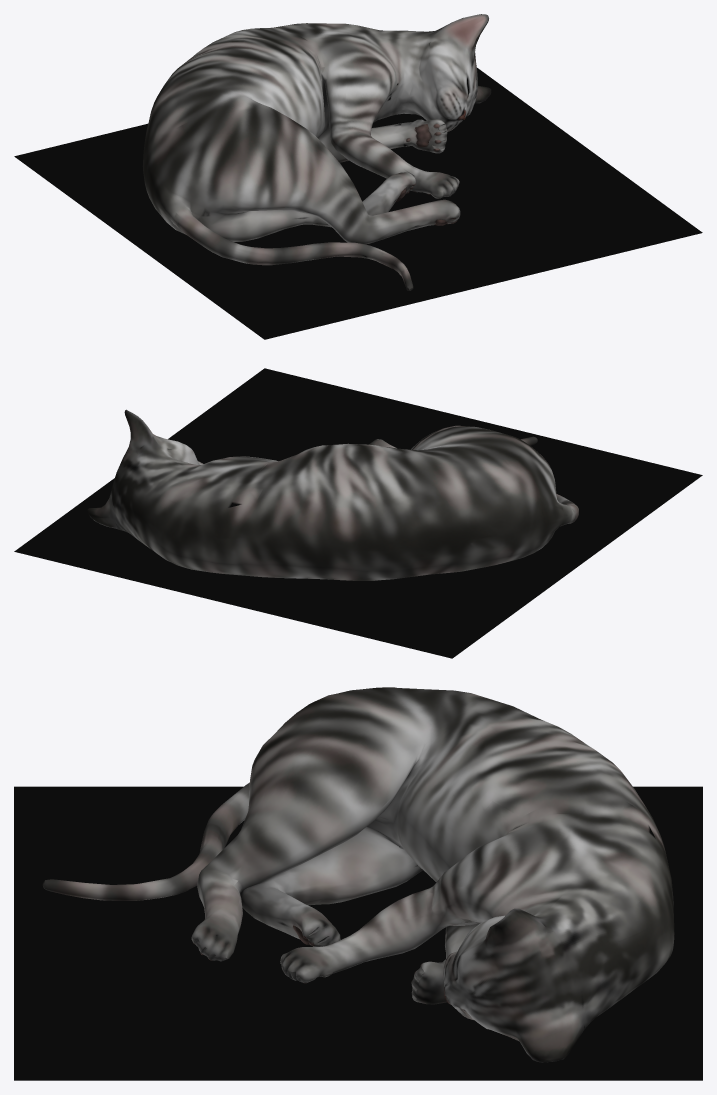
File: Others_57bed6b0-234a-5046-9ac2-9bb8dff5a699.glb
The picture shows the model from 3 angles, top to bottom: view 1: azimuth 30°, elevation 25°; view 2: azimuth 150°, elevation 25°; view 3: azimuth 270°, elevation 25°; orthographic projection. The views are drawn at different scales.
Parts seen in each view (by area): view 1: raw_model.obj; view 2: raw_model.obj; view 3: raw_model.obj.
Boxes of the visible parts, box(x1,y1,x2,y2) form: raw_model.obj: box(14, 14, 702, 339); raw_model.obj: box(14, 368, 702, 658); raw_model.obj: box(14, 687, 702, 1080).
Size of the model in its own units: 0.5485 by 0.138 by 0.5432.
1 material, 1 textured.
